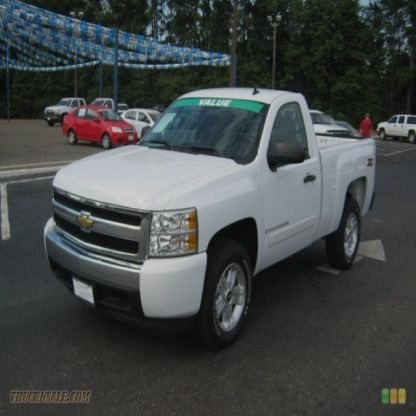Vehicle: (43, 82, 378, 355)
